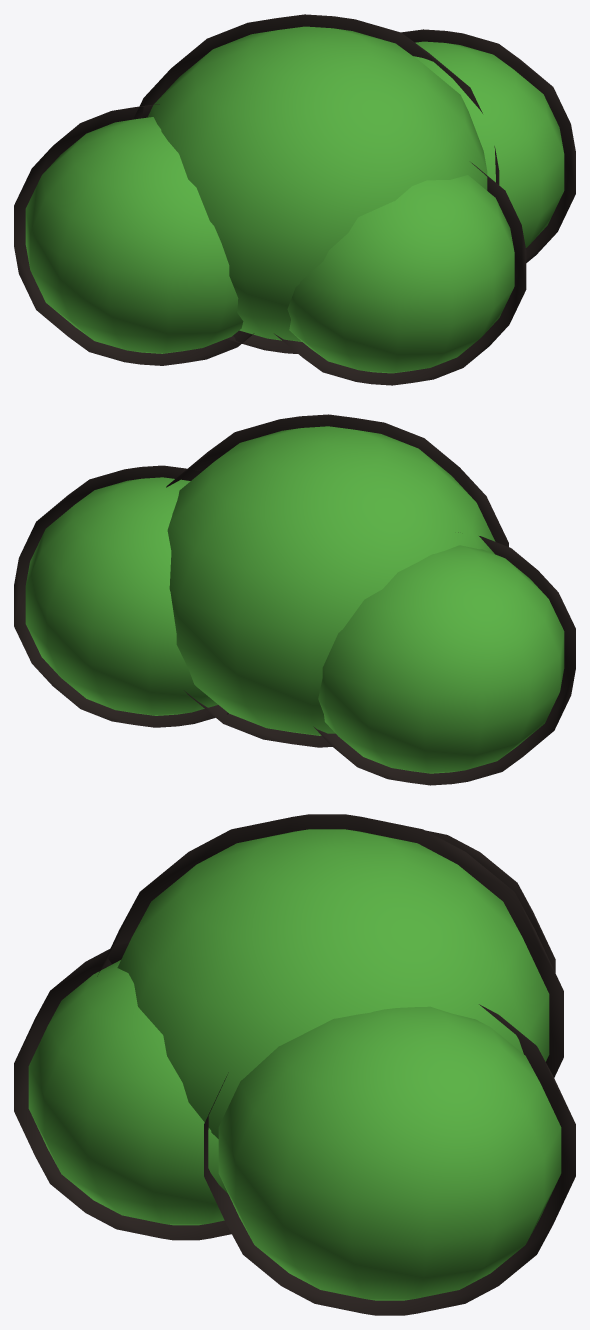
The model's file is Bush.fbx.
The picture shows the model from 3 angles, top to bottom: view 1: azimuth 30°, elevation 25°; view 2: azimuth 150°, elevation 25°; view 3: azimuth 270°, elevation 25°; orthographic projection. The views are drawn at different scales.
Parts seen in each view (by area): view 1: PR_Bush_Bush, PR_Bush_Outline; view 2: PR_Bush_Bush, PR_Bush_Outline; view 3: PR_Bush_Bush, PR_Bush_Outline.
Part boxes in pixels (left/top/right/bottom): PR_Bush_Bush: left=25, top=26, right=564, bottom=373; PR_Bush_Outline: left=14, top=14, right=575, bottom=385; PR_Bush_Bush: left=25, top=426, right=564, bottom=773; PR_Bush_Outline: left=14, top=414, right=575, bottom=785; PR_Bush_Bush: left=28, top=829, right=561, bottom=1300; PR_Bush_Outline: left=14, top=814, right=575, bottom=1315.
Bounding box in the file's own units: 2.39 × 1.32 × 1.79.
